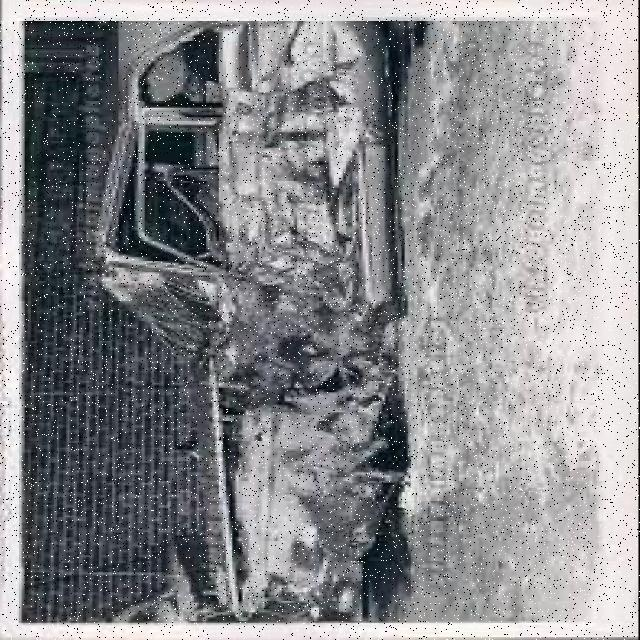damage: (94, 39, 393, 591)
